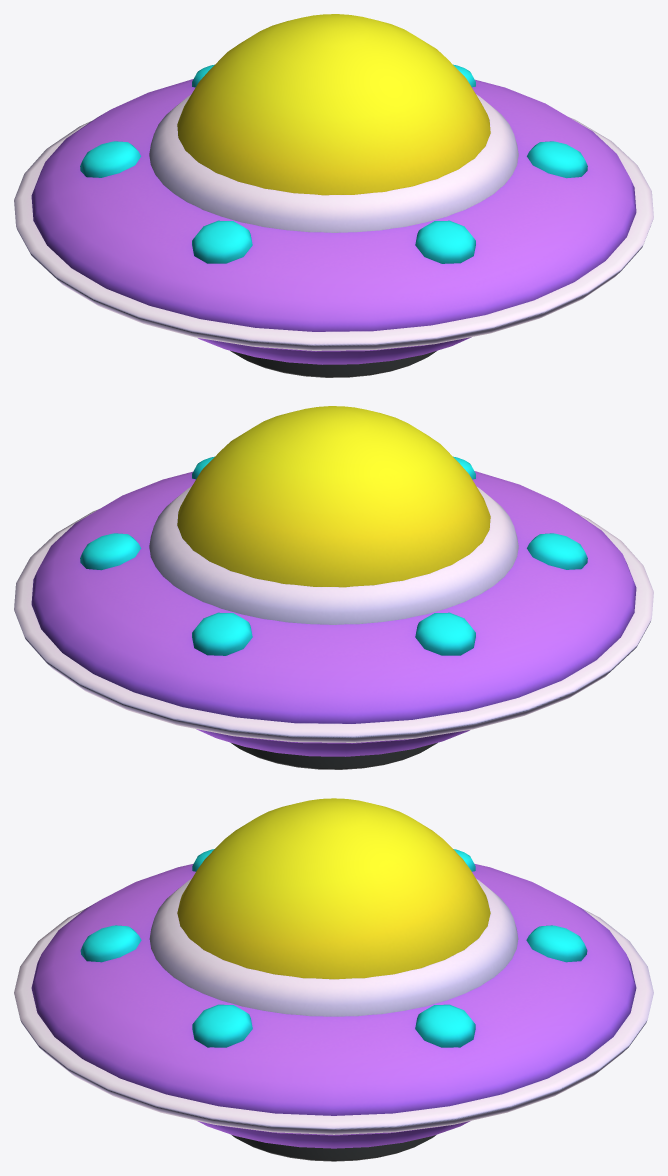
Rendered from ufo.fbx.
3 renders of one model, top to bottom at view 1: azimuth 30°, elevation 25°; view 2: azimuth 150°, elevation 25°; view 3: azimuth 270°, elevation 25°, orthographic.
Parts seen in each view (by area): view 1: ufo; view 2: ufo; view 3: ufo.
Part boxes in pixels (box(x1,y1,x2,y2)): ufo: box(14, 14, 653, 377); ufo: box(14, 406, 653, 769); ufo: box(14, 798, 653, 1161).
Size of the model in its own units: 421 by 218 by 421.
